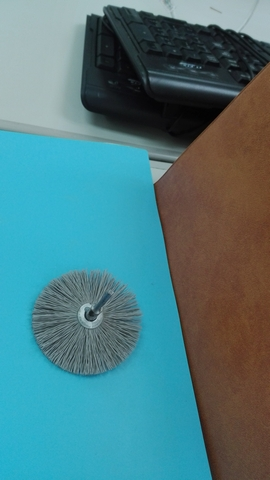TOOL: (9, 248, 168, 399), (14, 267, 155, 380), (35, 243, 125, 387)
